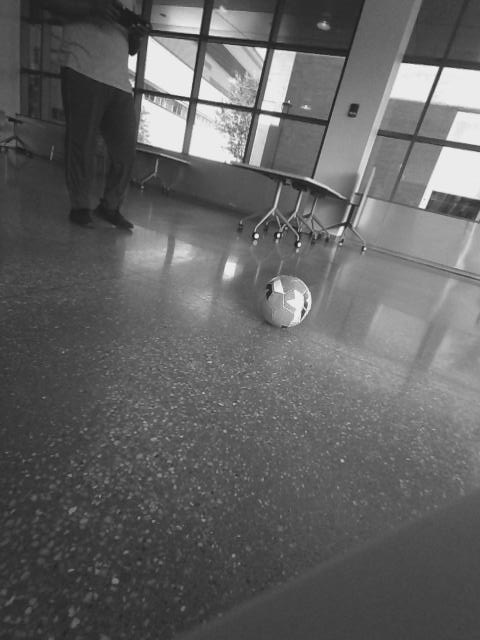ball: (190, 307, 285, 405)
